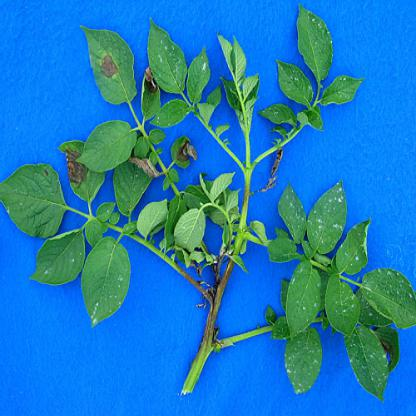potato leaf late blight: (77, 22, 139, 106), (56, 139, 108, 206)
